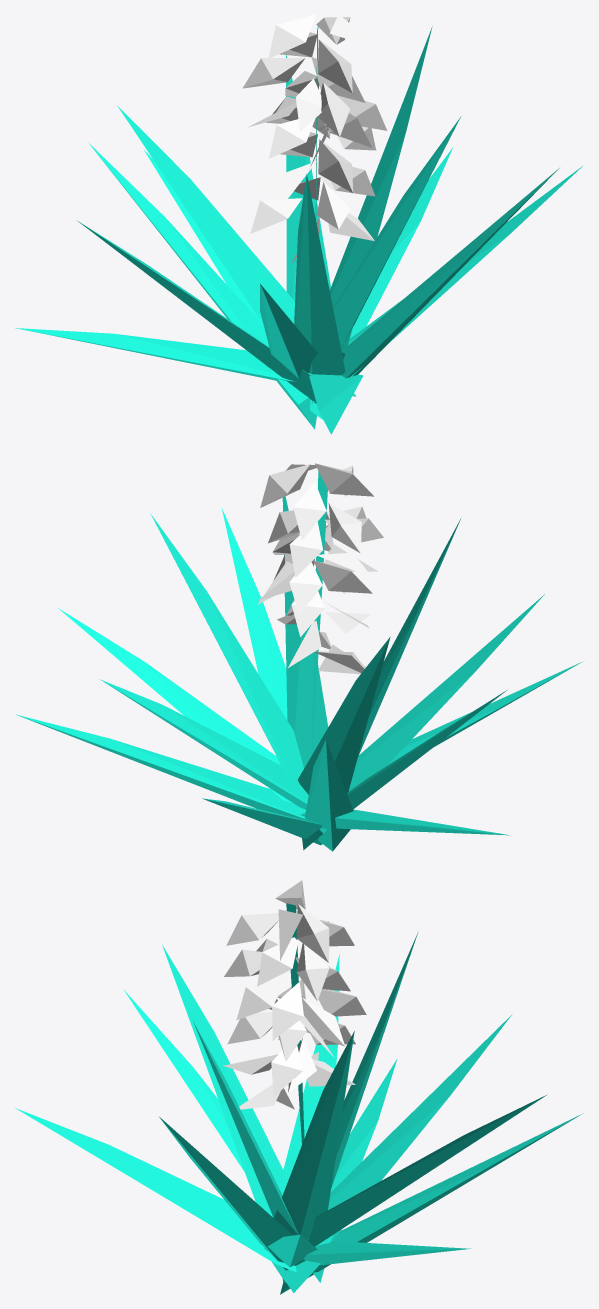
The model's file is Yucca_LOD2.fbx.
The picture shows the model from 3 angles, top to bottom: view 1: azimuth 30°, elevation 25°; view 2: azimuth 150°, elevation 25°; view 3: azimuth 270°, elevation 25°; orthographic projection. The views are drawn at different scales.
Visible parts, largest first — view 1: Yucca_LOD2; view 2: Yucca_LOD2; view 3: Yucca_LOD2.
Boxes of the visible parts, x1=… form: Yucca_LOD2: x1=15, y1=14, x2=583, y2=434; Yucca_LOD2: x1=15, y1=463, x2=583, y2=851; Yucca_LOD2: x1=15, y1=880, x2=583, y2=1294.
Size of the model in its own units: 181 by 139 by 186.
